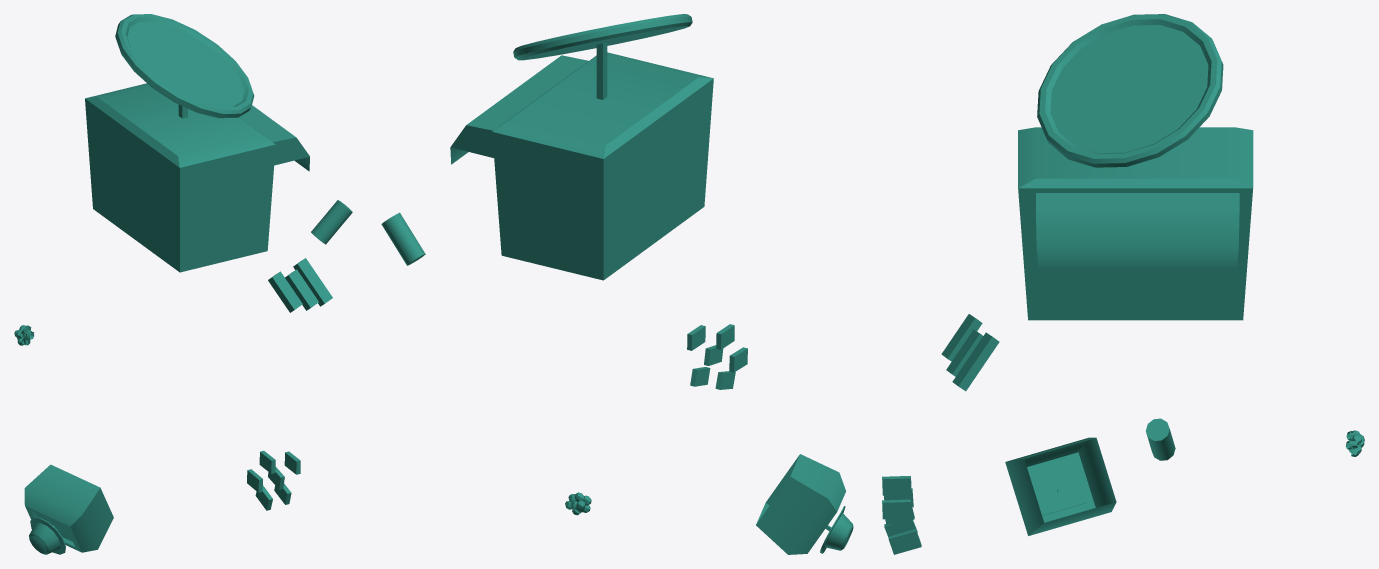
The model's file is PlanetaryObjects.fbx.
3 views of the same model, side by side, from view 1: azimuth 30°, elevation 25°; view 2: azimuth 150°, elevation 25°; view 3: azimuth 270°, elevation 25° (orthographic). The views are drawn at different scales.
Visible parts, largest first — view 1: Planet_Home_Decor; view 2: Planet_Home_Decor; view 3: Planet_Home_Decor.
Boxes of the visible parts, x1,y1,x2,y2 form: Planet_Home_Decor: (14, 14, 352, 554); Planet_Home_Decor: (381, 14, 853, 554); Planet_Home_Decor: (882, 14, 1364, 554).
Size of the model in its own units: 1113 by 1364 by 1041.
